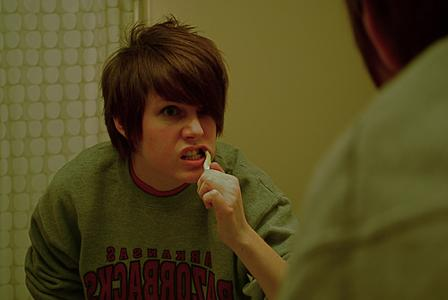person: (23, 22, 302, 300)
